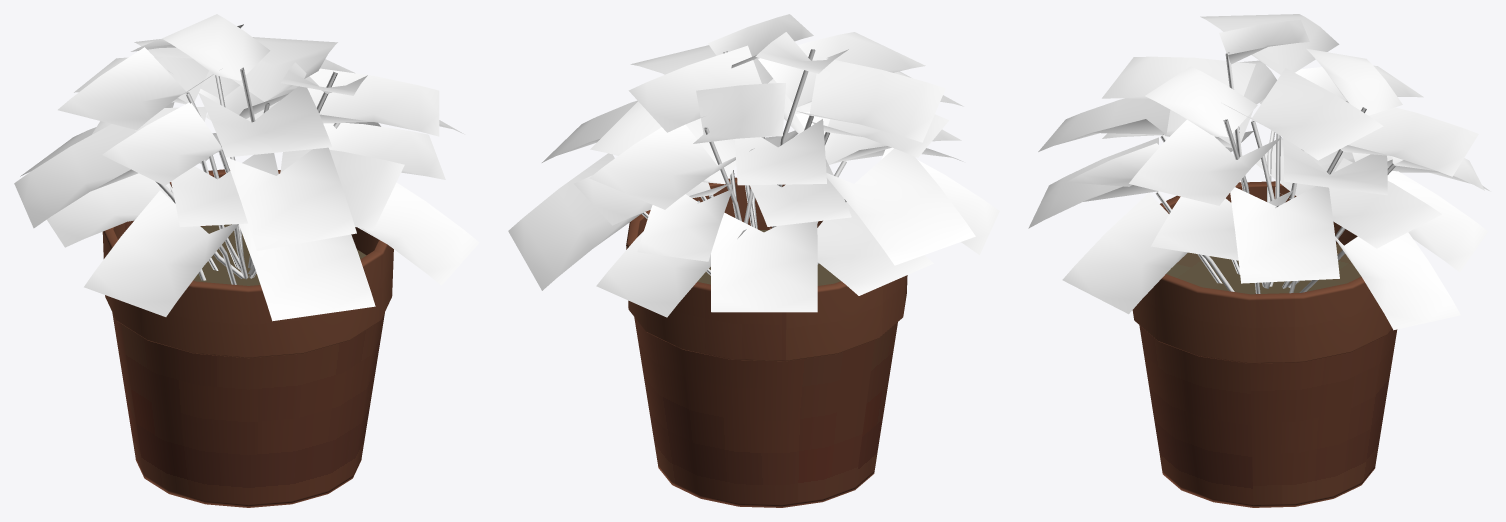
The model's file is a_com_house_a01_plant06_brown_darkgreen.gltf.
3 views of the same model, side by side, from view 1: azimuth 30°, elevation 25°; view 2: azimuth 150°, elevation 25°; view 3: azimuth 270°, elevation 25° (orthographic). The views are drawn at different scales.
Parts seen in each view (by area): view 1: um_a_com_house_a01_plant06_model_a_com_house_a01_plant06_mod (×2); view 2: um_a_com_house_a01_plant06_model_a_com_house_a01_plant06_mod (×2); view 3: um_a_com_house_a01_plant06_model_a_com_house_a01_plant06_mod (×2).
Boxes of the visible parts, x1,y1,x2,y2 form: um_a_com_house_a01_plant06_model_a_com_house_a01_plant06_mod (×2): [14, 14, 479, 507]; um_a_com_house_a01_plant06_model_a_com_house_a01_plant06_mod (×2): [508, 14, 999, 507]; um_a_com_house_a01_plant06_model_a_com_house_a01_plant06_mod (×2): [1028, 14, 1490, 507].
Size of the model in its own units: 0.2825 by 0.2795 by 0.2822.
2 materials, 1 textured.
